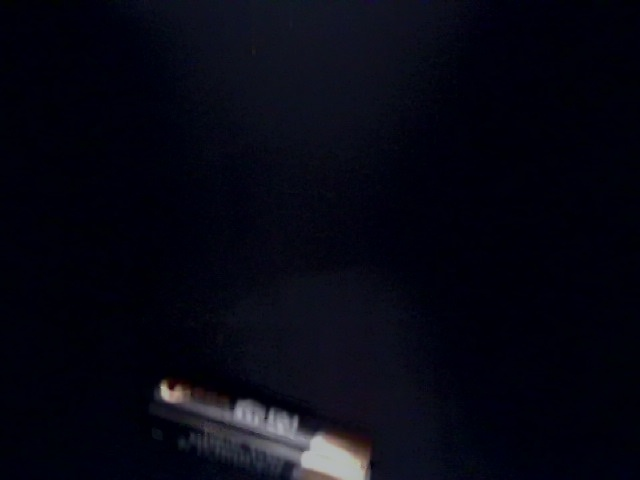YHLJ: (243, 122, 513, 216)
